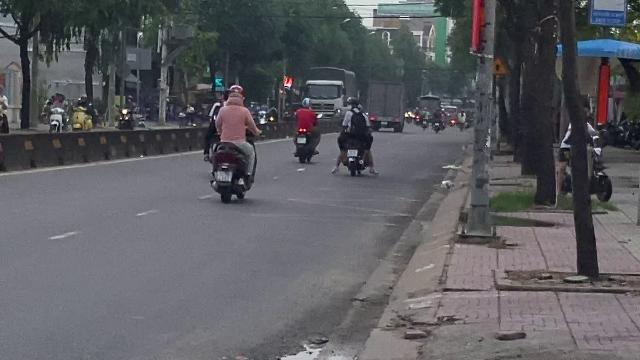helmet: (225, 84, 245, 104)
licenseplate: (218, 172, 232, 182)
motorcyclist: (205, 84, 259, 202)
